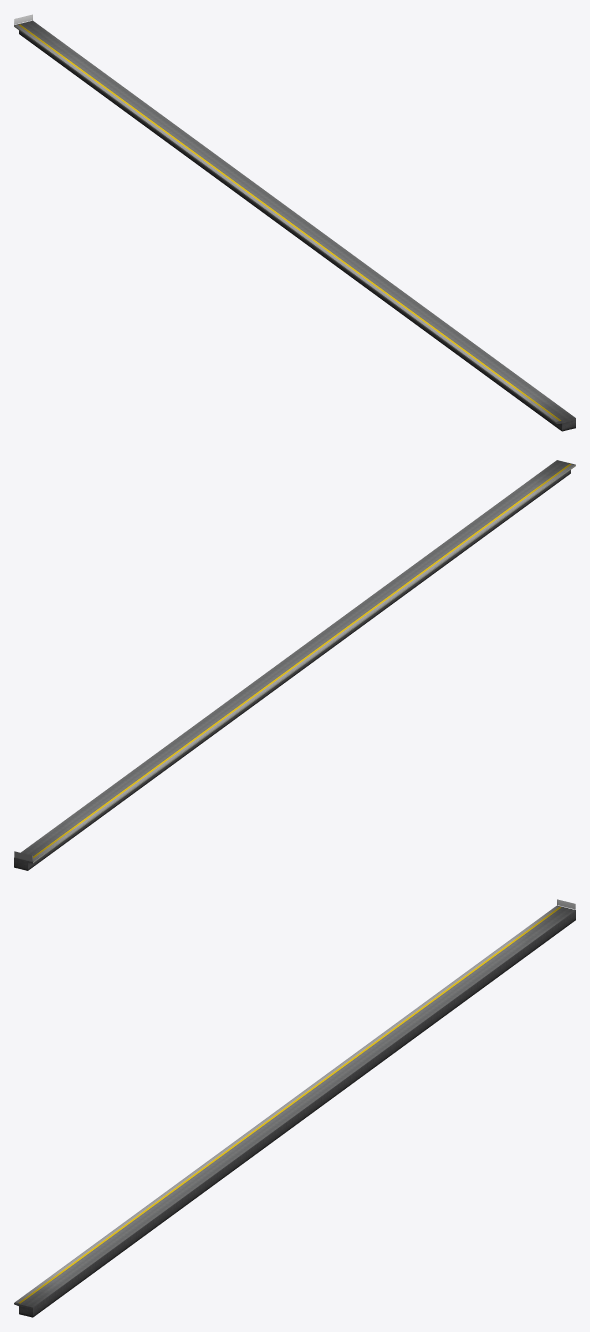
Rendered from LEFT_HORM_32.glb.
3 views of the same model, one above another, from view 1: azimuth 30°, elevation 25°; view 2: azimuth 150°, elevation 25°; view 3: azimuth 330°, elevation 25° (orthographic).
Parts seen in each view (by area): view 1: obj1; view 2: obj1; view 3: obj1.
Part boxes in pixels (box(x1,y1,x2,y2)): obj1: box(14, 20, 575, 431); obj1: box(14, 460, 575, 870); obj1: box(14, 905, 575, 1317).
Size of the model in its own units: 8.06 by 6.61 by 400.
Materials: 6 (6 with a texture image).
